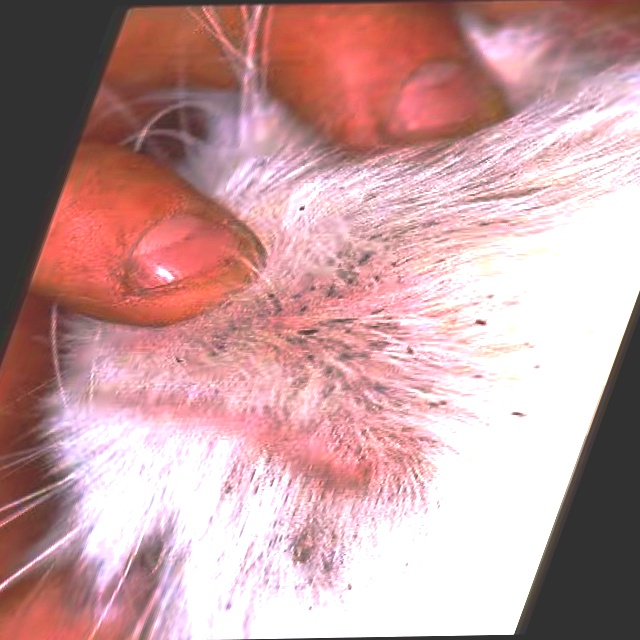acne: (127, 285, 581, 431)
